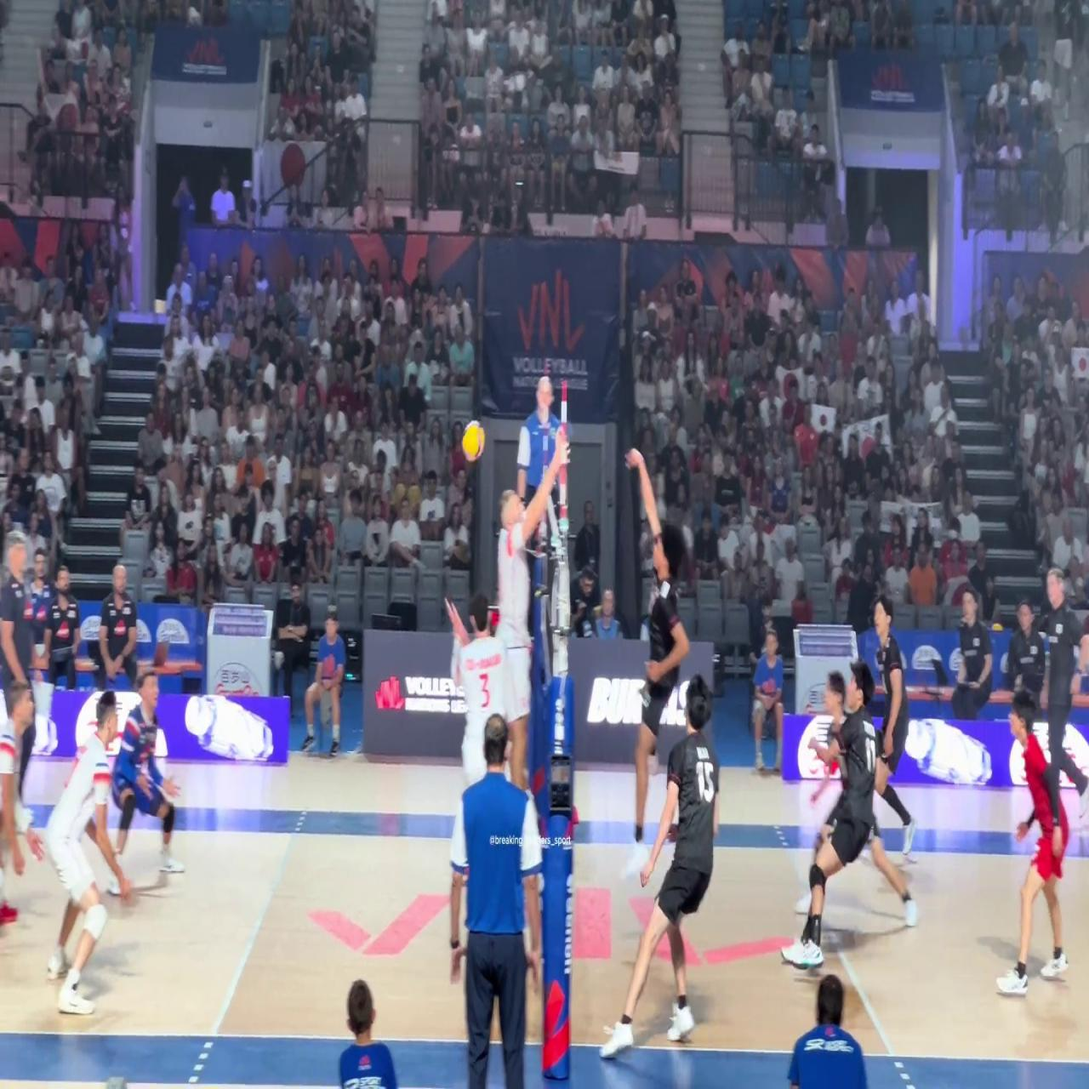ball: (462, 422, 485, 461)
